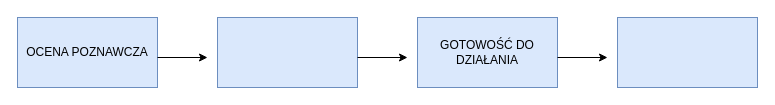
The diagram is 775 pixels wide and 105 high, and some of its shapes have lost their labels. Here are the shapes that lost their labels. From the top down, the centre of each, then its label:
point (287, 52): WARTOŚCIOWANIE KONTEKSTOWE
point (687, 52): ZMIANA PSYCHOLOGICZNA, EKSPRESJA, DZIAŁANIE
